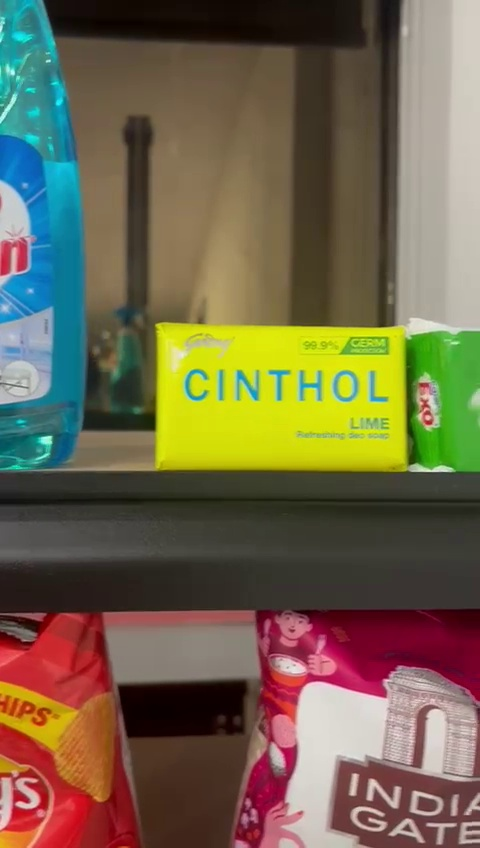Cinthol: (154, 328, 406, 476)
